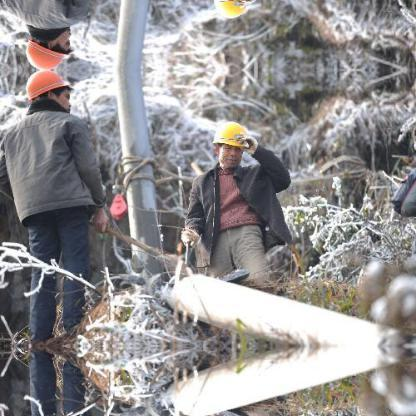Helmet: (20, 23, 74, 68), (20, 68, 74, 112), (210, 116, 250, 168), (209, 0, 251, 20)
